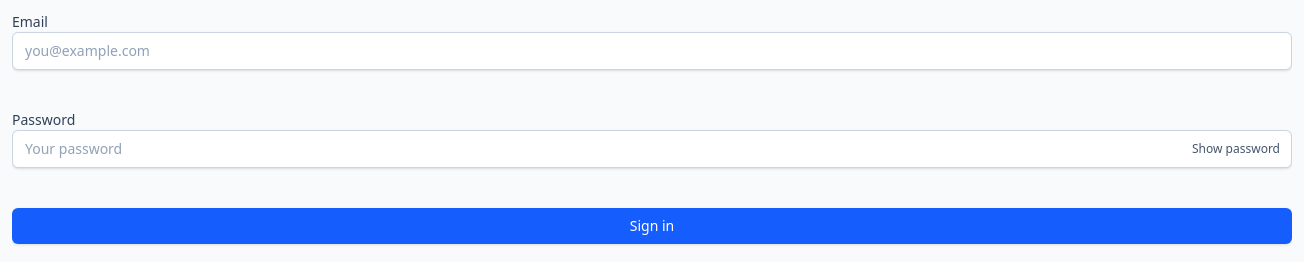
Scenario: LoginForm › validation › shows email_required error when email is empty and form is touched
Click the field labelled "Email": (652, 51) [12,32,1292,70]
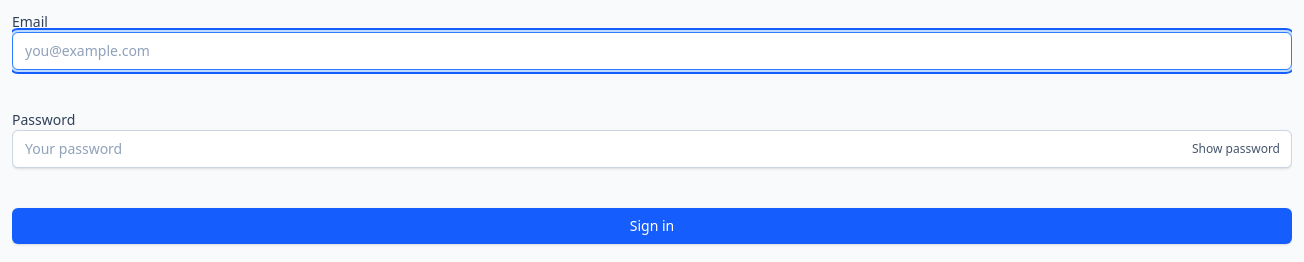
Click the password field labelled "Password": (652, 149) [12,130,1292,168]
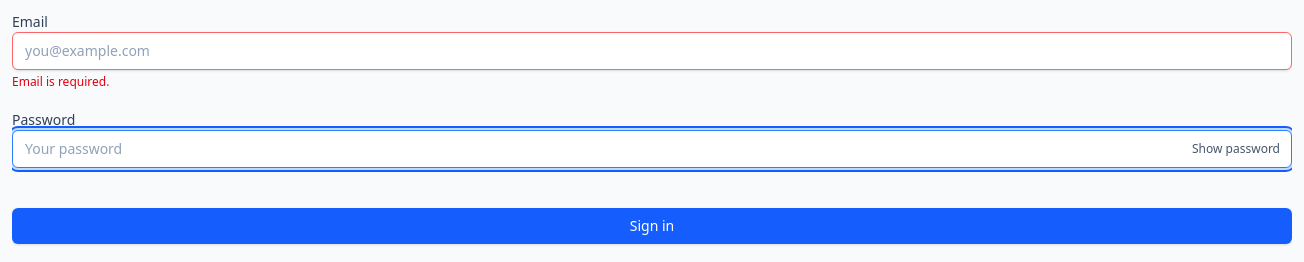
Expected: the text "Email is required." is shown, [12,73,109,90]
